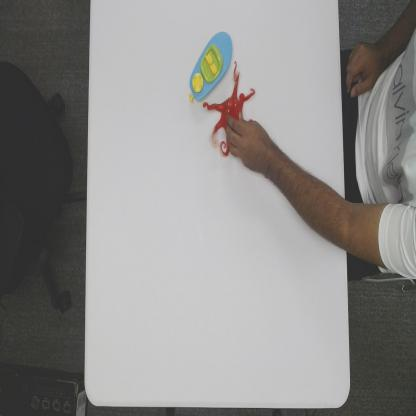Arm: (277, 145, 416, 279)
Boat: (188, 29, 233, 103)
Hand: (225, 110, 276, 175)
Octopus: (203, 60, 256, 158)
